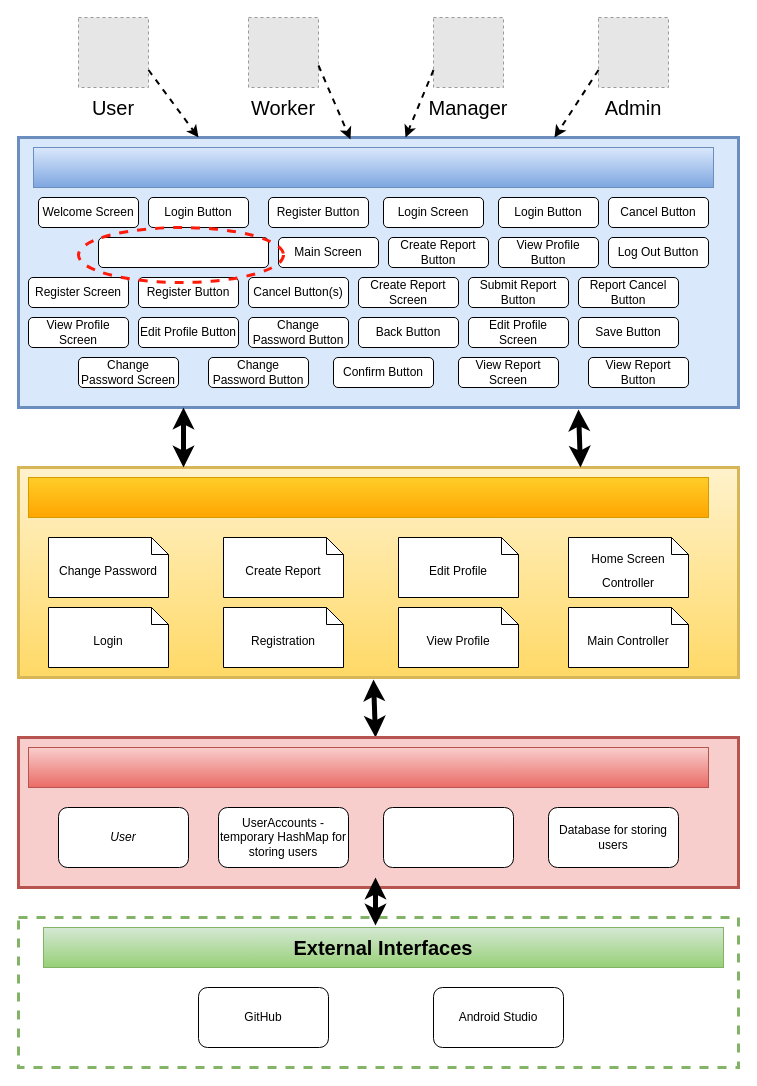
The diagram is 757 pixels wide and 1086 high, and some of its shapes have lost their labels. Grey dashed boxes stand in for pictures. The centre of each missing label's shape, as x and y in pixels:
Controllers / Coordinators: [368,497]
Information Holders: [368,767]
Login with Facebook Button: [183,252]
Source Report: [448,837]
User Interfaces: [373,167]
